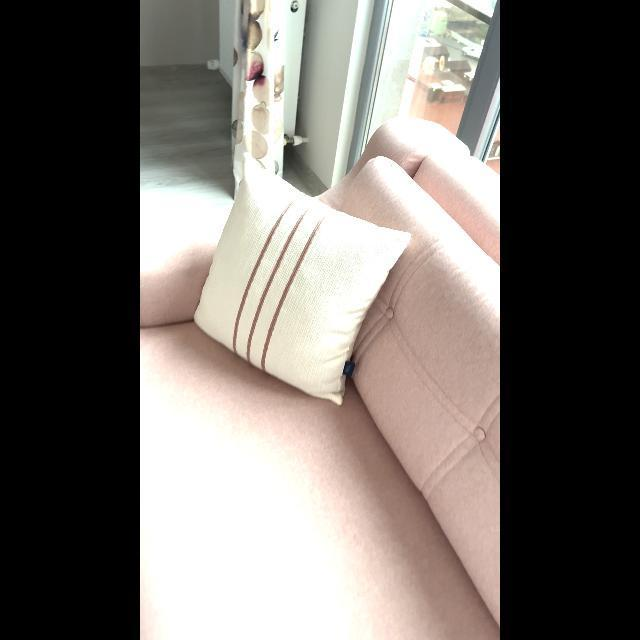throw pillow: (179, 150, 415, 414)
